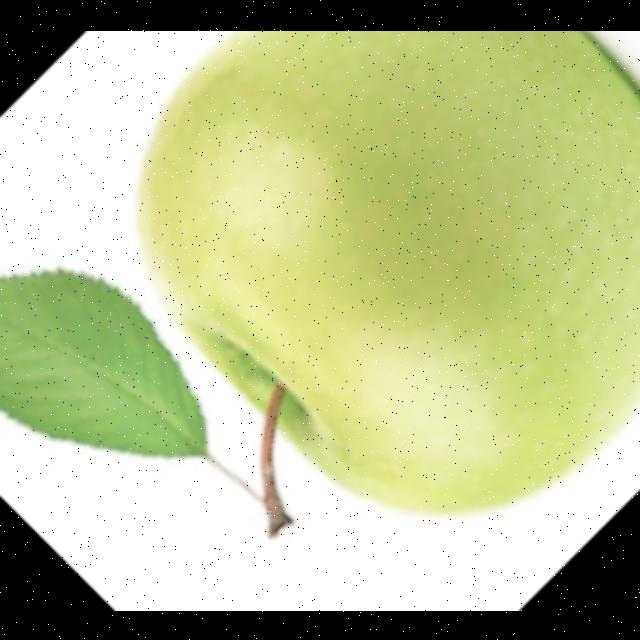Apel Segar: (25, 31, 640, 526)
